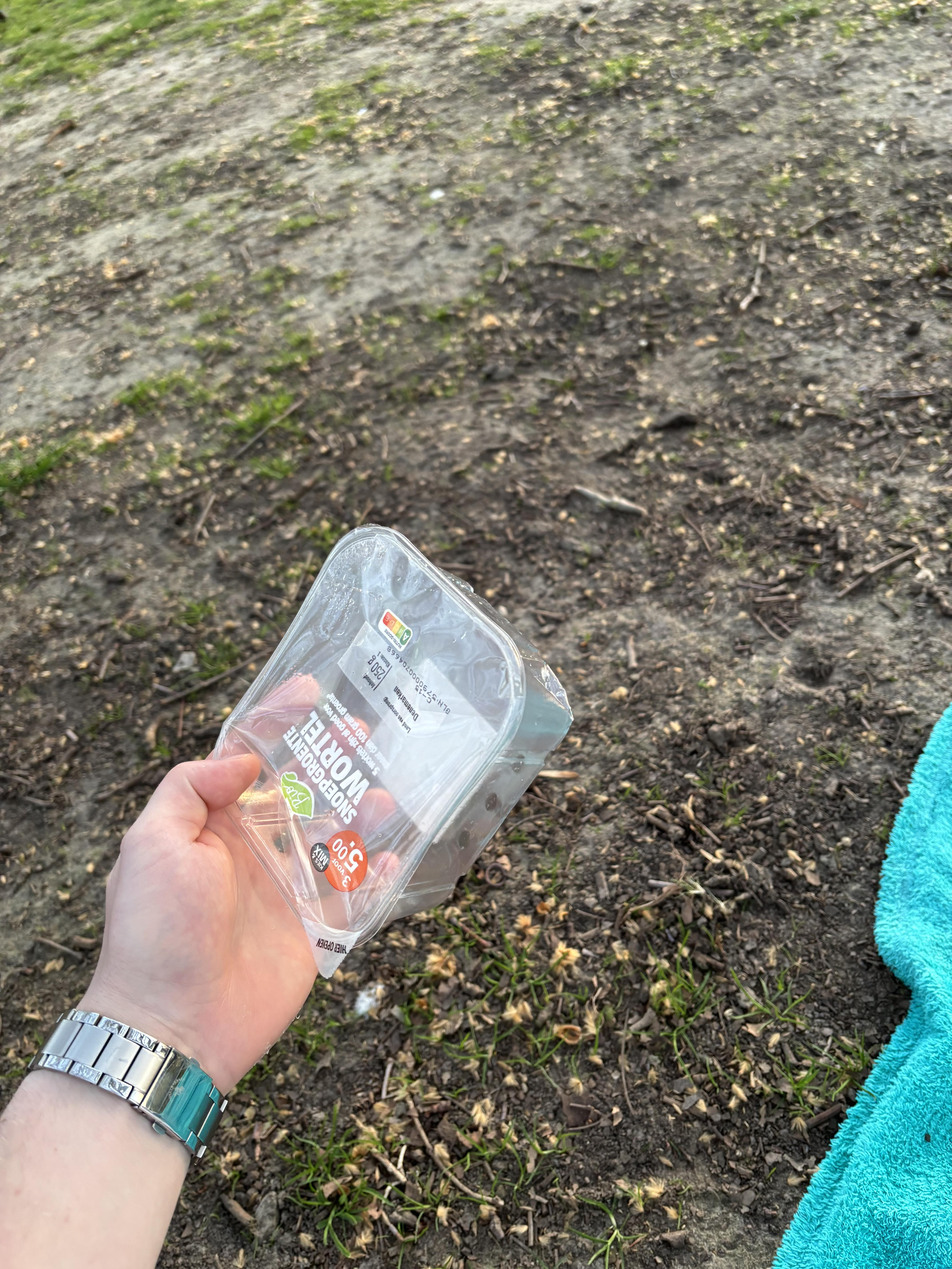Plastic: (222, 520, 577, 965)
